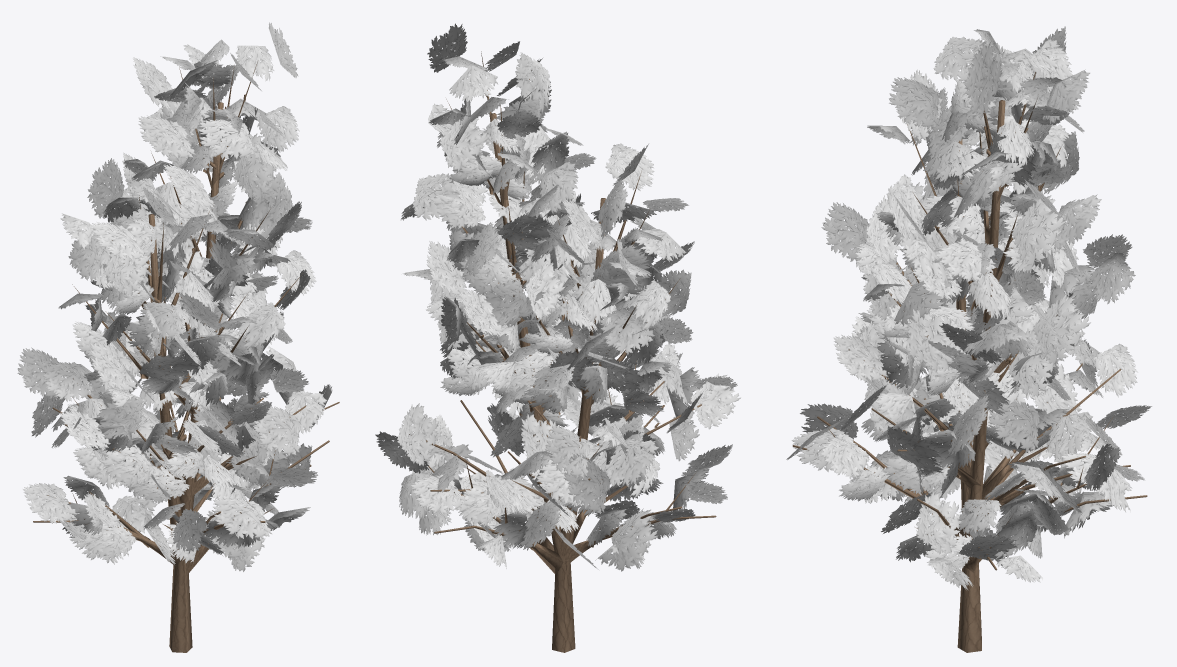
Rendered from SugarMaple_LOD0_P3630_B2400_L1180_v03.fbx.
3 views of the same model, side by side, from view 1: azimuth 30°, elevation 25°; view 2: azimuth 150°, elevation 25°; view 3: azimuth 270°, elevation 25° (orthographic). The views are drawn at different scales.
Parts seen in each view (by area): view 1: sugar_maple_card_v02_1, sugar_maple_bark_v01_0; view 2: sugar_maple_card_v02_1, sugar_maple_bark_v01_0; view 3: sugar_maple_card_v02_1, sugar_maple_bark_v01_0.
Boxes of the visible parts, <box> form: sugar_maple_card_v02_1: <box>17,22,332,571</box>; sugar_maple_bark_v01_0: <box>33,64,339,652</box>; sugar_maple_card_v02_1: <box>375,23,740,571</box>; sugar_maple_bark_v01_0: <box>409,51,716,652</box>; sugar_maple_card_v02_1: <box>786,26,1151,590</box>; sugar_maple_bark_v01_0: <box>792,72,1147,652</box>.
Bounding box in the file's own units: 1309 × 2457 × 1288.
